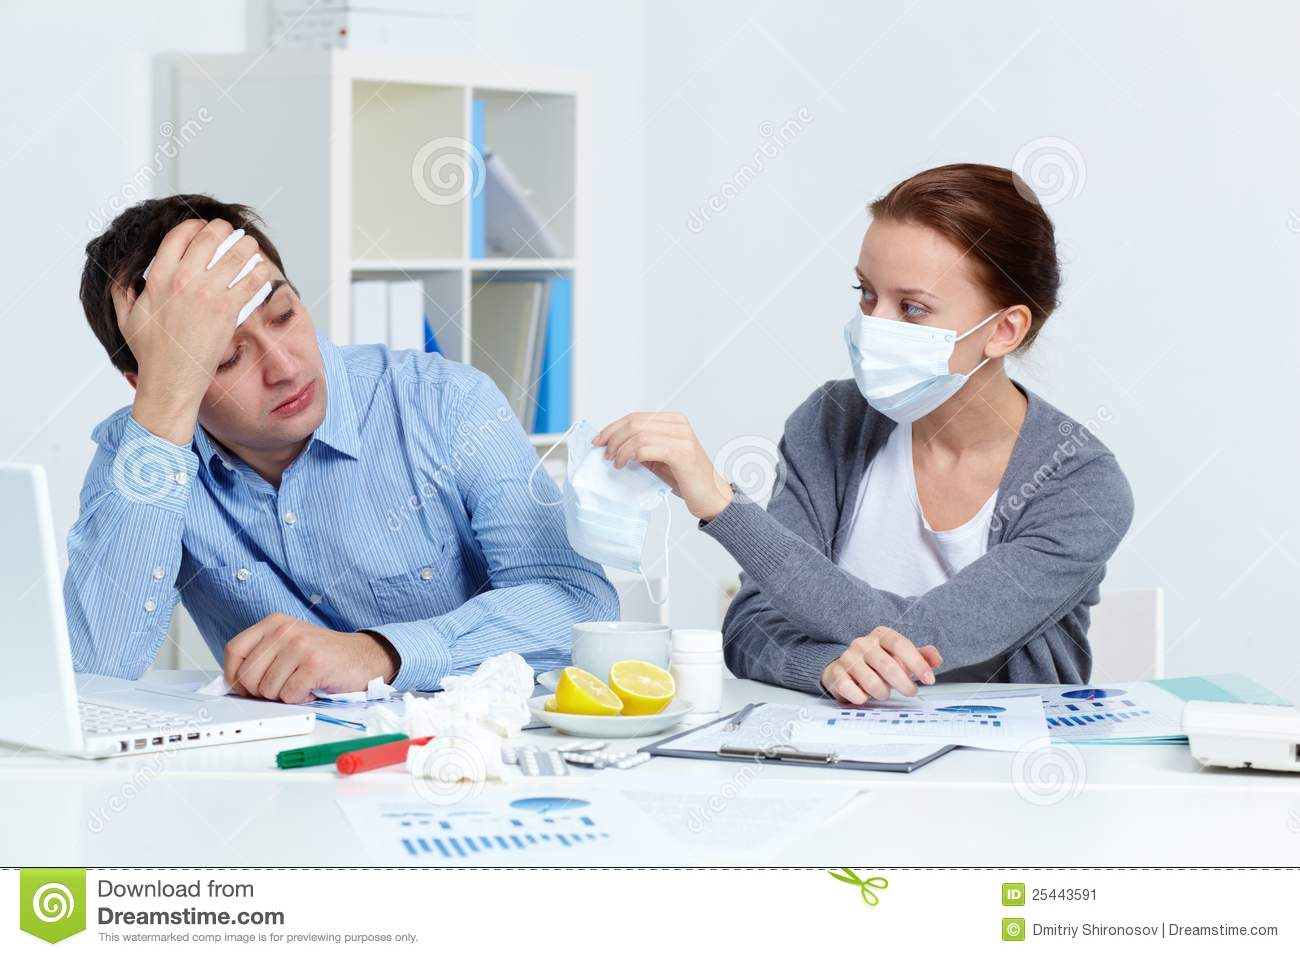mask: (838, 310, 968, 422)
